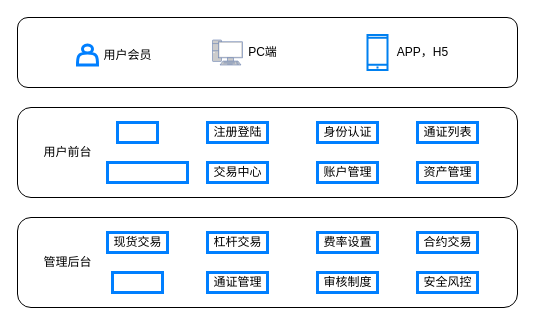
The diagram is 535 pixels wide and 325 high, and some of its shapes have lost their labels. Here are the shapes that lost their labels. From the top down, the centre of each, then its label:
At point (137, 132): "首页".
At point (147, 172): "通证流动性".
At point (137, 282): "流动性".
